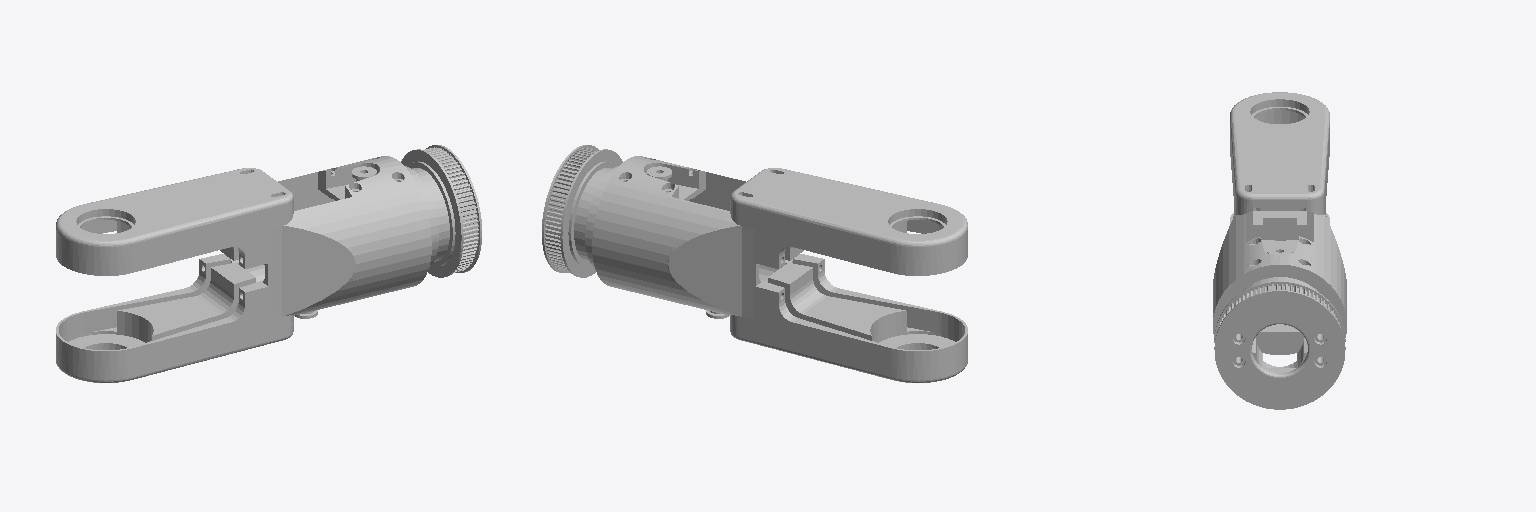
The model's file is forearm.obj.
3 views of the same model, side by side, from view 1: azimuth 30°, elevation 25°; view 2: azimuth 150°, elevation 25°; view 3: azimuth 270°, elevation 25° (orthographic).
Visible parts, largest first — view 1: mesh1; view 2: mesh1; view 3: mesh1.
Boxes of the visible parts, x1,y1,x2,y2 form: mesh1: [56, 145, 481, 382]; mesh1: [542, 145, 967, 382]; mesh1: [1213, 92, 1346, 409].
Size of the model in its own units: 0.2795 by 0.098 by 0.084.